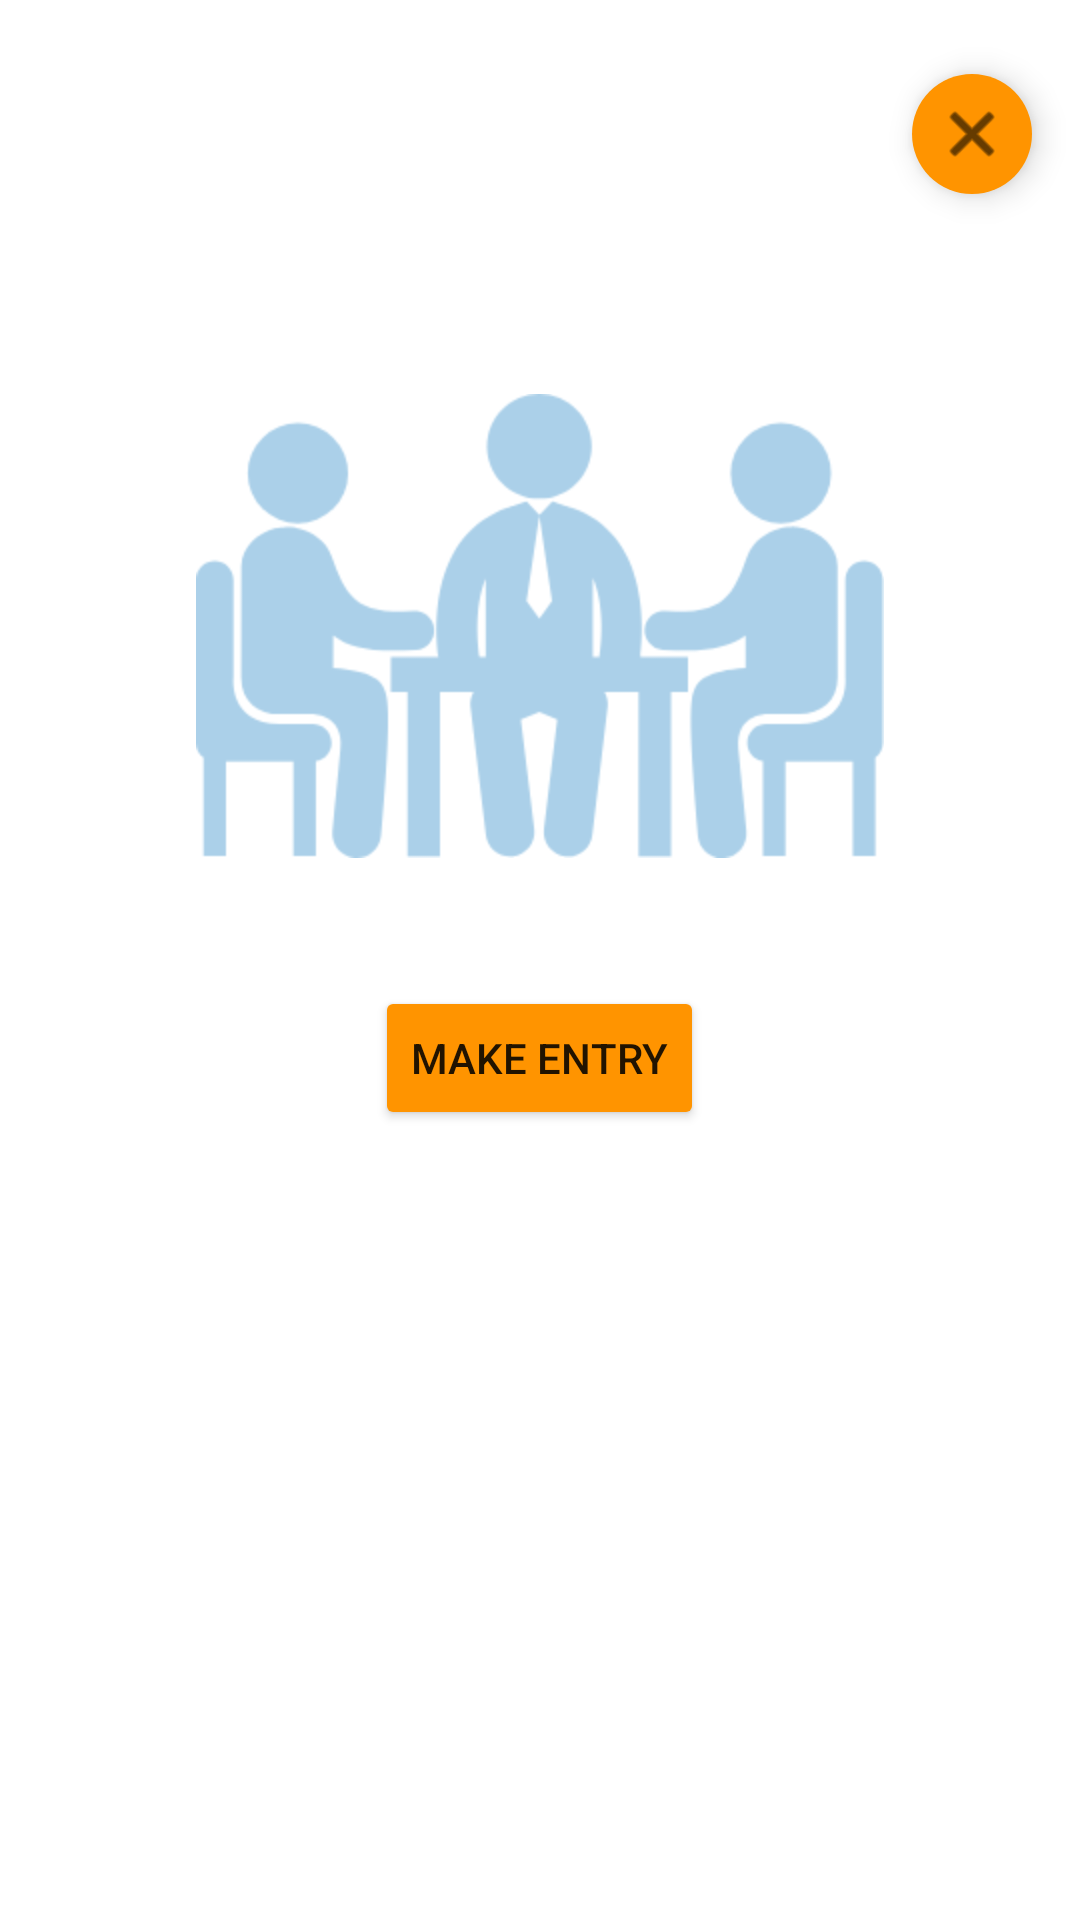

Screen size 1080*1920. Icon name, then its box in pixels as box=[x1, y1, x2, y2]:
close clear cancel: box=[912, 74, 1034, 195]
